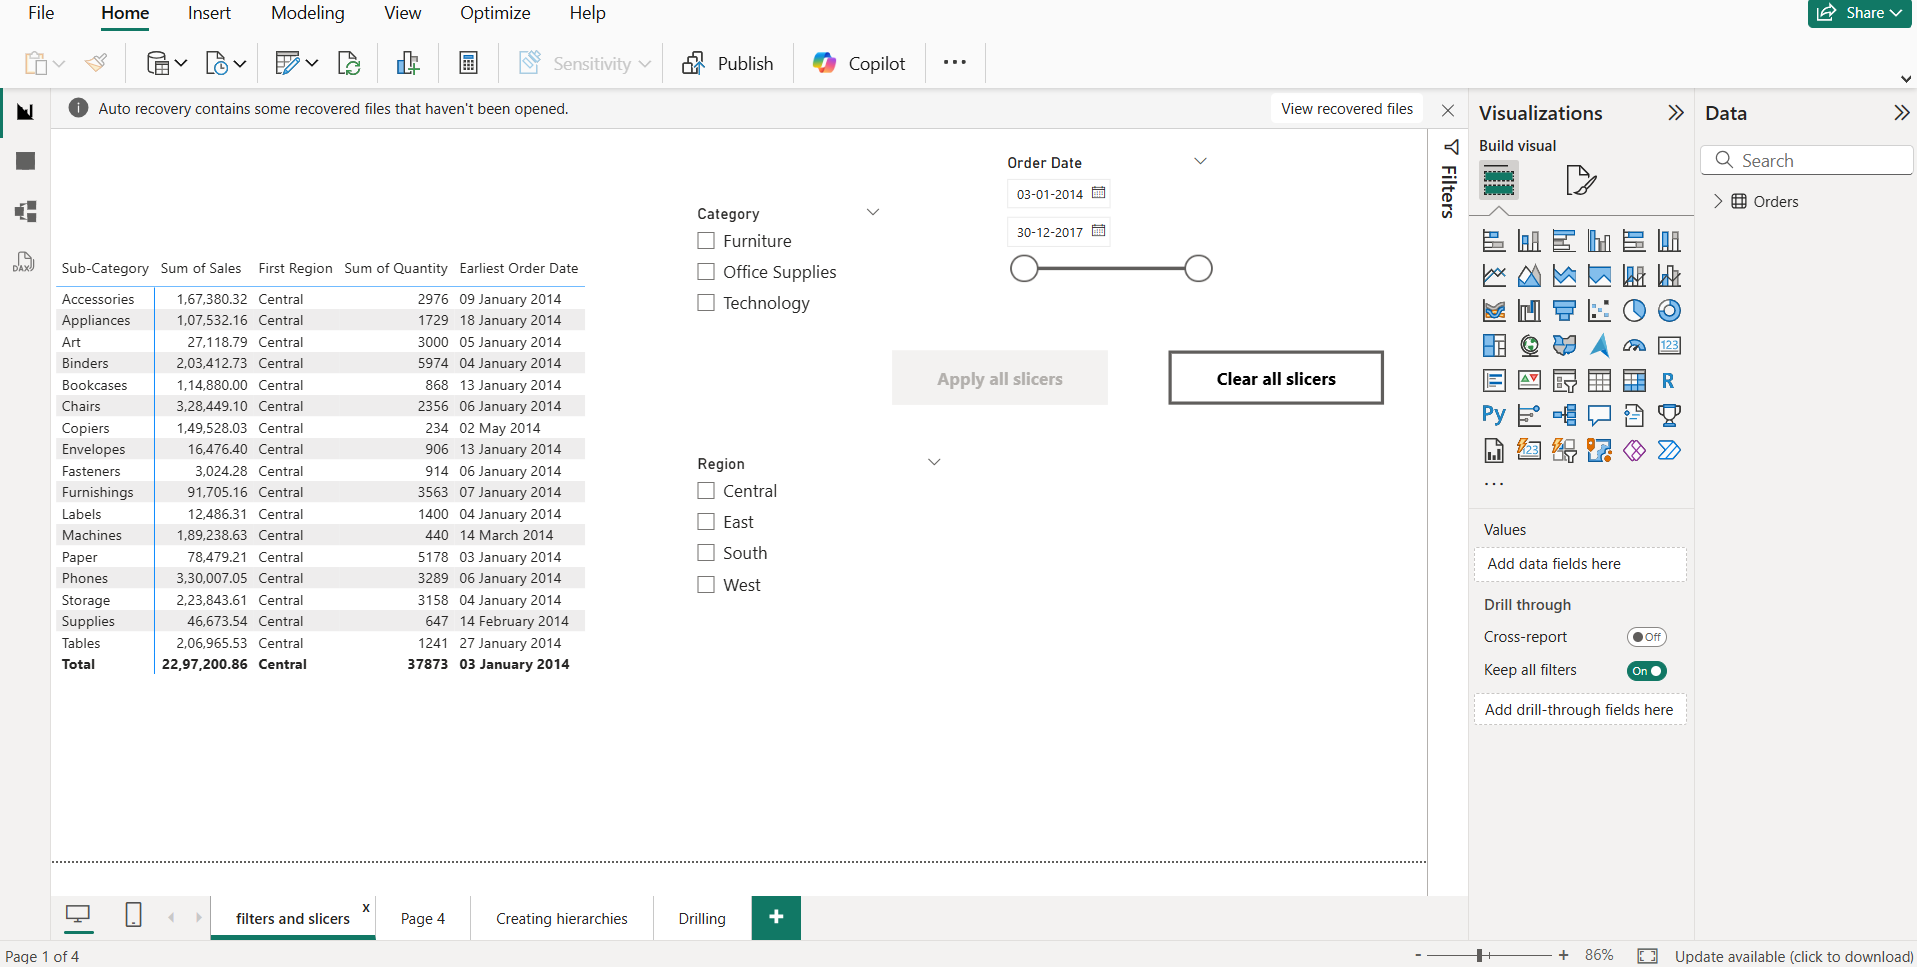

What the dashboard file says about the page in this screenshot:
{"tool":"powerbi","page":{"name":"filters and slicers","canvas":[1280,720],"ordinal":0},"visuals":[{"type":"pivotTable","fields":{"Rows":["Orders.Sub-Category"],"Values":["Sum(Orders.Sales)","Min(Orders.Region)","Sum(Orders.Quantity)","Min(Orders.Order Date)"]},"box":[0,151.2,520.9,525.6],"z":0},{"type":"slicer","fields":{"Values":["Orders.Category"]},"box":[588.4,103.5,195.3,159.3],"z":1000},{"type":"slicer","fields":{"Values":["Orders.Region"]},"box":[588.4,336,252.3,189.5],"z":2000},{"type":"slicer","fields":{"Values":["Orders.Order Date"]},"box":[876.7,55.8,211.6,157],"z":3000},{"type":"actionButton","box":[782.9,243.8,200.5,50.4],"z":4000},{"type":"actionButton","box":[1039.8,243.8,200.5,50.4],"z":5000}]}

Visuals, with their boxes on the page's 1280x720 design canvas (x1, y1, x2, y2). These are canvas units, not pixel positions in the 1917x967 screenshot, which may show the page scaled, cropped or inside an application window:
pivotTable - Orders.Sub-Category x Sum(Orders.Sales): (x1=0, y1=151, x2=521, y2=677)
slicer - Orders.Category: (x1=588, y1=104, x2=784, y2=263)
slicer - Orders.Region: (x1=588, y1=336, x2=841, y2=526)
slicer - Orders.Order Date: (x1=877, y1=56, x2=1088, y2=213)
actionButton: (x1=783, y1=244, x2=983, y2=294)
actionButton: (x1=1040, y1=244, x2=1240, y2=294)
